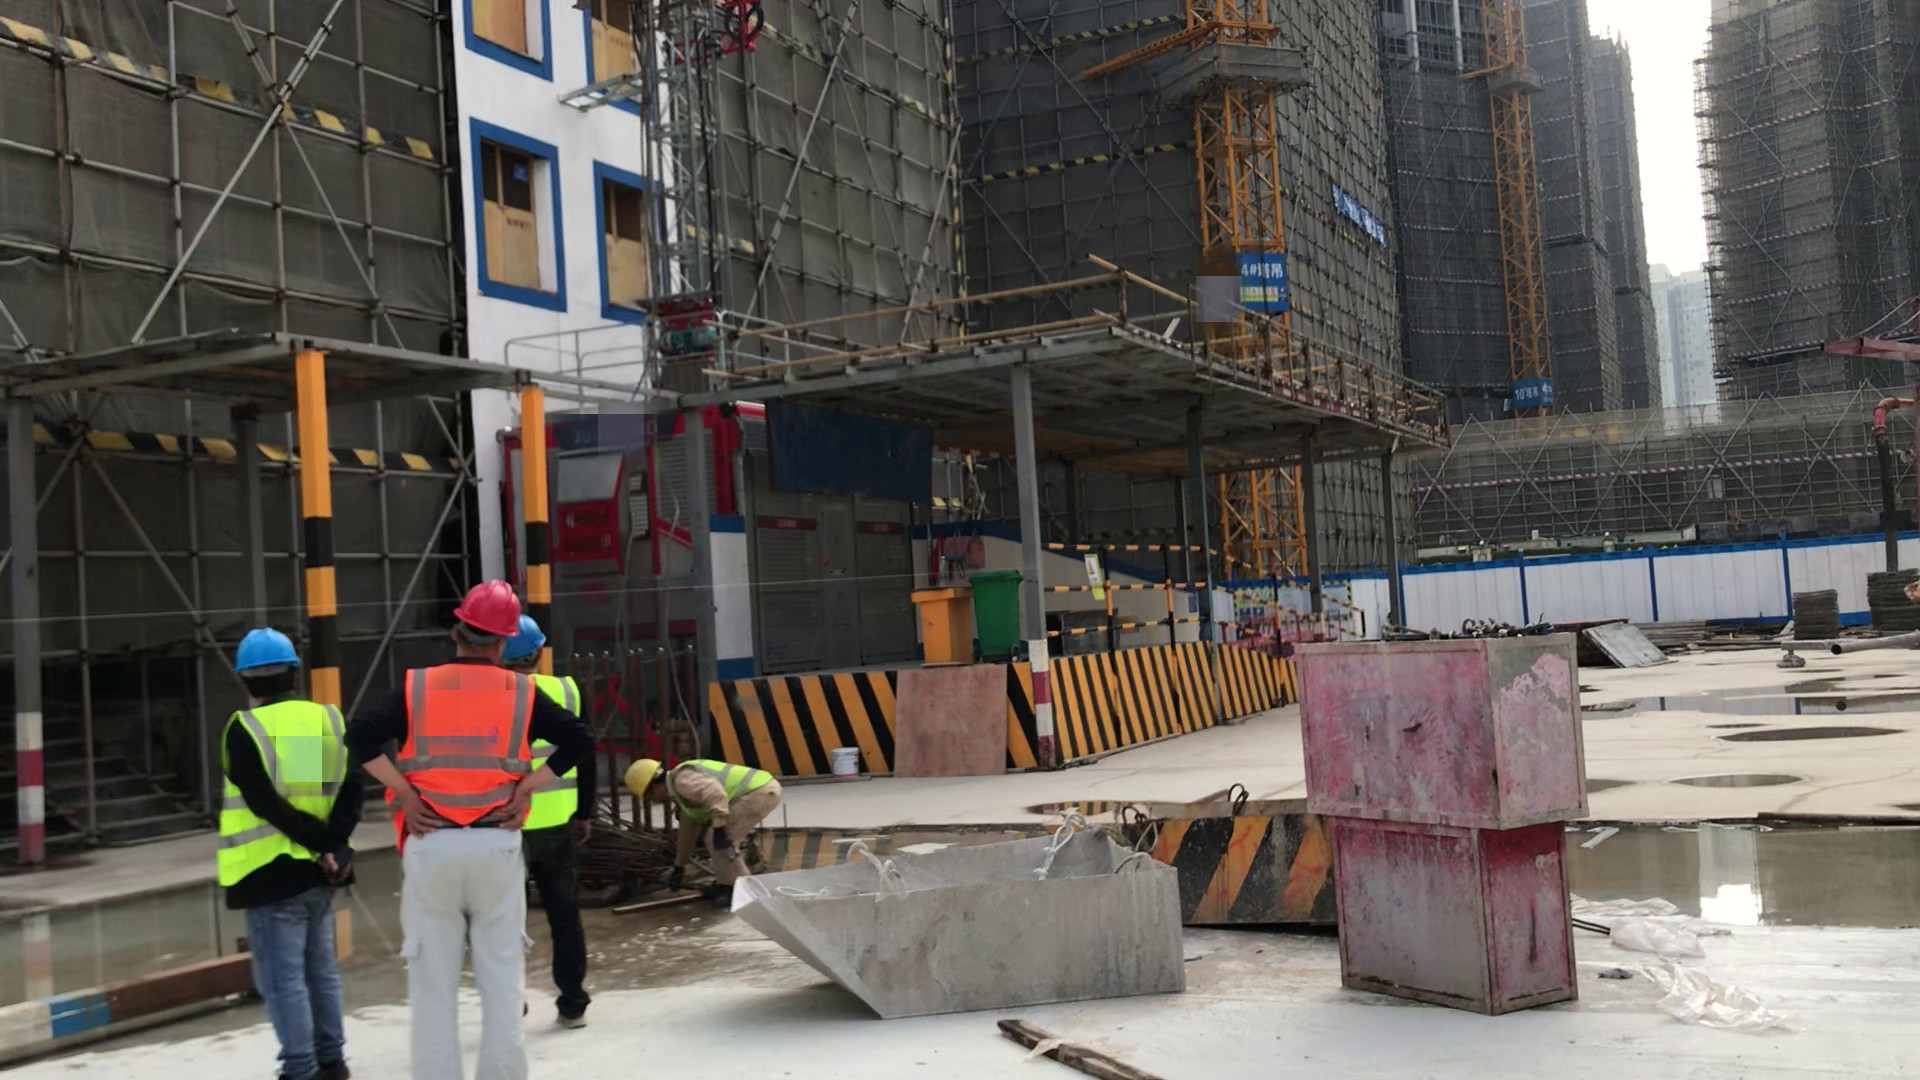helmet: (456, 570, 525, 639), (211, 626, 315, 670), (620, 744, 661, 801), (508, 615, 546, 663)
person: (385, 563, 530, 1080), (222, 600, 363, 1080), (506, 606, 596, 1041), (618, 735, 785, 904)
vest: (384, 655, 528, 842), (226, 705, 357, 895), (521, 670, 589, 839), (671, 752, 783, 829)
